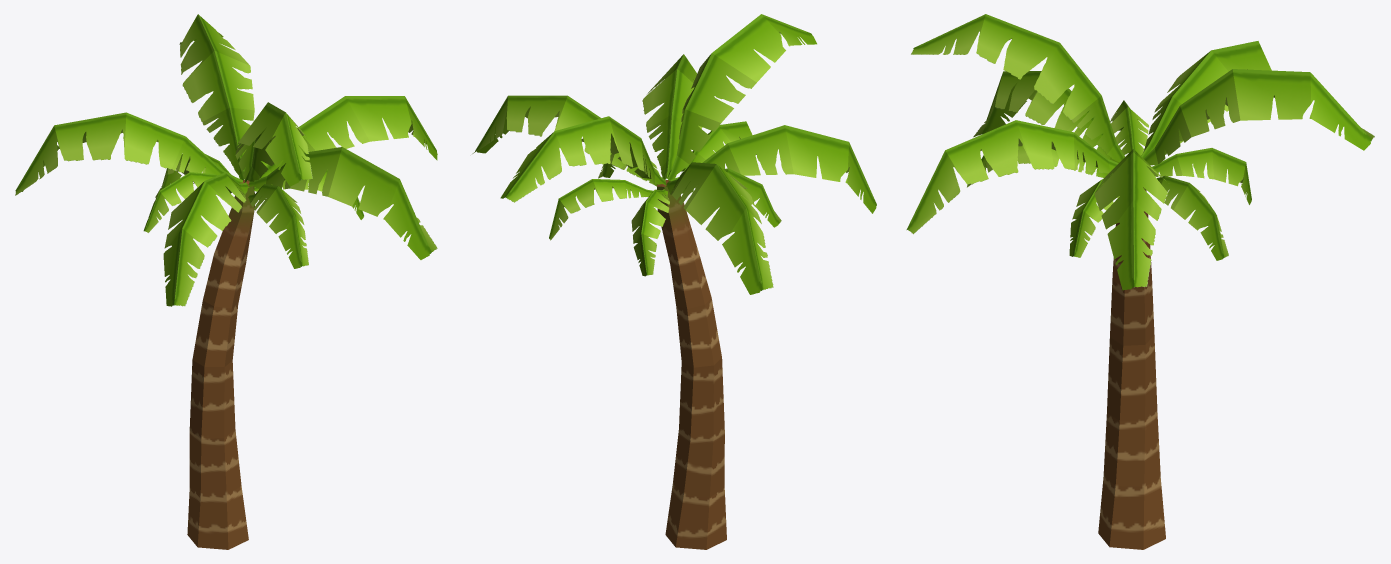
The model's file is Palm.fbx.
3 views of the same model, side by side, from view 1: azimuth 30°, elevation 25°; view 2: azimuth 150°, elevation 25°; view 3: azimuth 270°, elevation 25° (orthographic). The views are drawn at different scales.
Parts seen in each view (by area): view 1: Palm; view 2: Palm; view 3: Palm.
Part boxes in pixels (bbox=[...]): Palm: bbox=[15, 14, 437, 549]; Palm: bbox=[472, 14, 876, 549]; Palm: bbox=[906, 14, 1374, 549].
Size of the model in its own units: 5.75 by 7.18 by 5.86.
